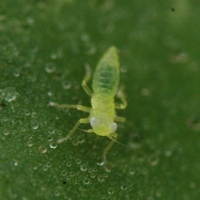insect: (49, 46, 126, 164)
